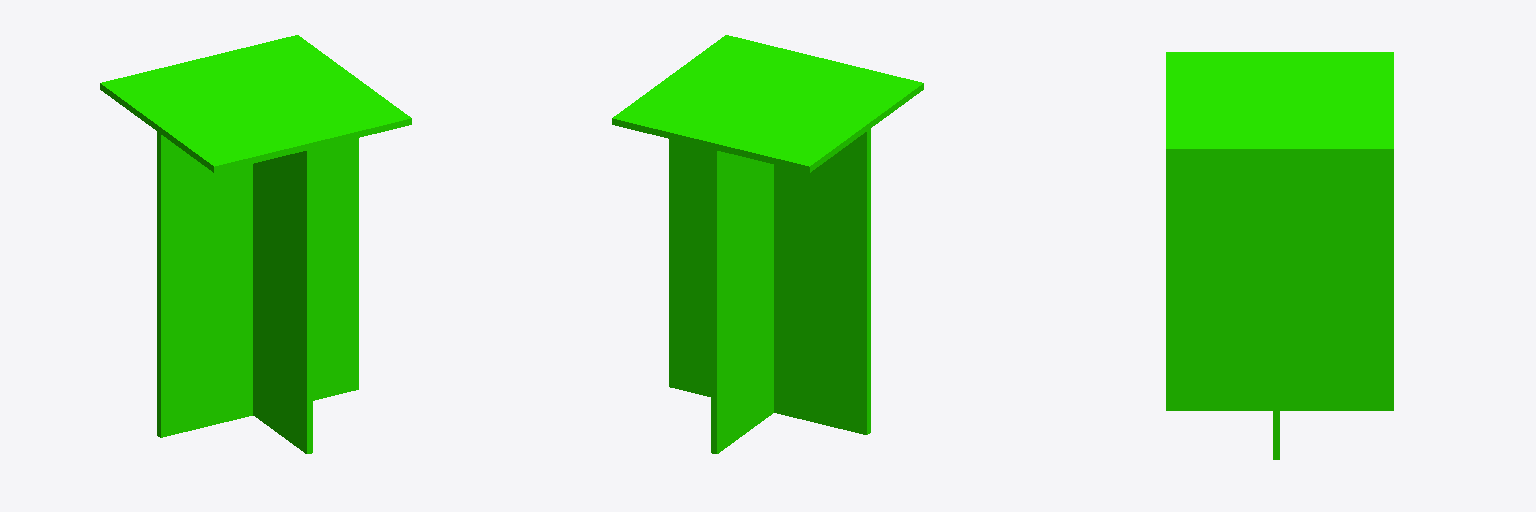
3 renders of one model, left to right at view 1: azimuth 30°, elevation 25°; view 2: azimuth 150°, elevation 25°; view 3: azimuth 270°, elevation 25°, orthographic.
Visible parts, largest first — view 1: 强绿光; view 2: 强绿光; view 3: 强绿光.
Part boxes in pixels (bbox=[...]): 强绿光: bbox=[100, 35, 411, 453]; 强绿光: bbox=[612, 35, 923, 453]; 强绿光: bbox=[1166, 52, 1393, 459].
Size of the model in its own units: 32 by 48 by 32.
1 materials, 1 textured.